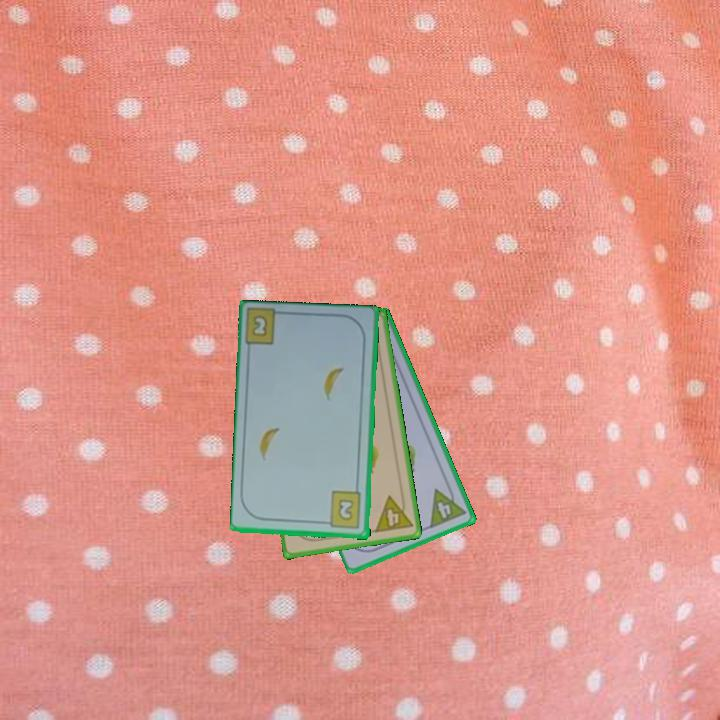2b: (321, 489, 364, 531), (249, 312, 270, 339)
4p: (426, 480, 469, 531), (371, 490, 415, 535)
